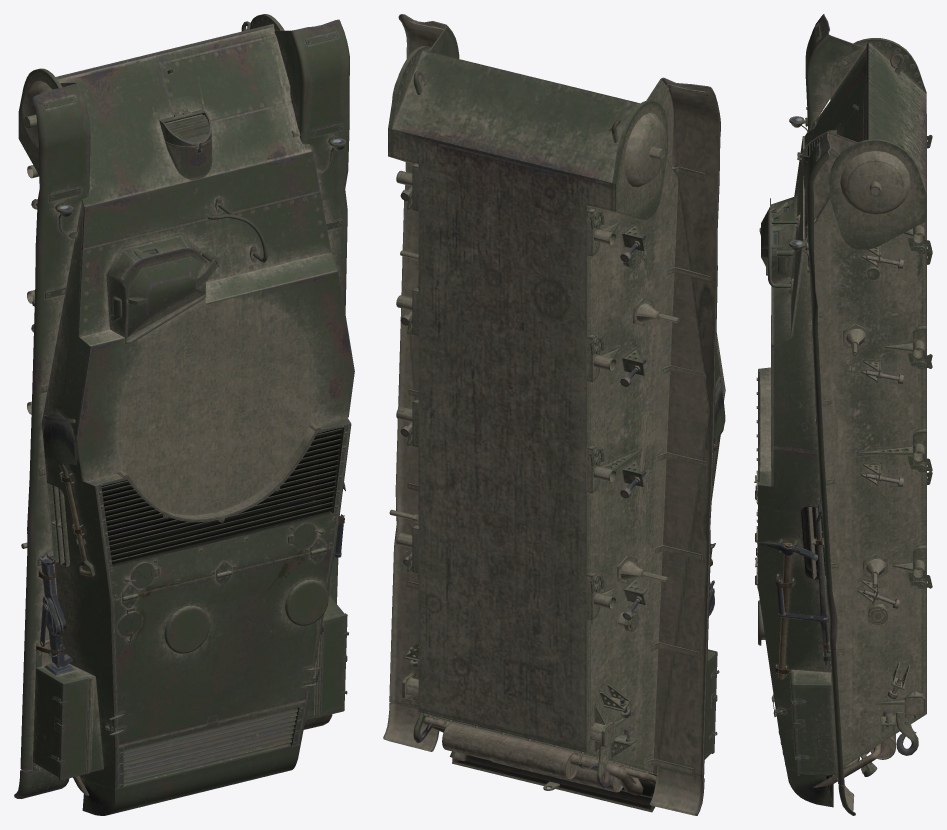
File: Hull.glb
3 views of the same model, side by side, from view 1: azimuth 30°, elevation 25°; view 2: azimuth 150°, elevation 25°; view 3: azimuth 270°, elevation 25° (orthographic). The views are drawn at different scales.
Parts seen in each view (by area): view 1: set_0_group_0; view 2: set_0_group_0; view 3: set_0_group_0.
Boxes of the visible parts, <box> form: set_0_group_0: <box>14,14,354,815</box>; set_0_group_0: <box>383,14,725,815</box>; set_0_group_0: <box>754,14,932,815</box>.
Size of the model in its own units: 2.04 by 4.56 by 1.08.
Materials: 1 (1 with a texture image).
